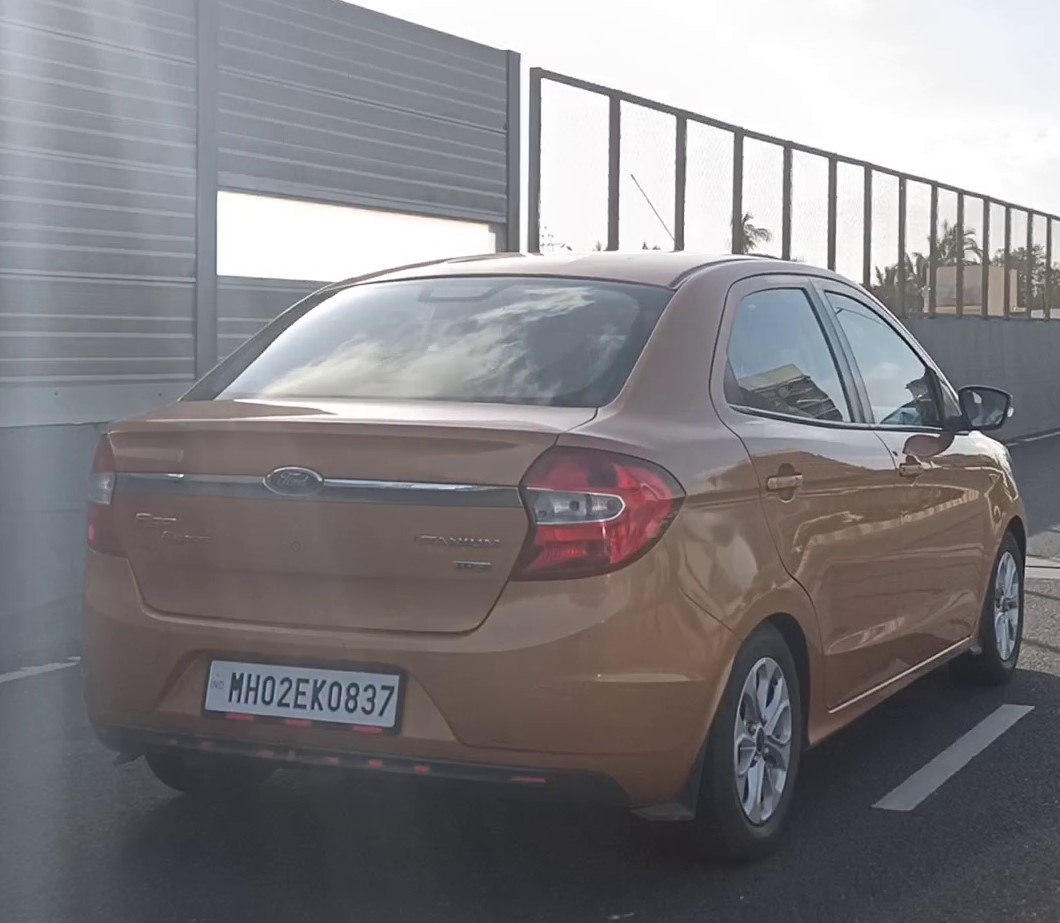MH02EK0837: (207, 652, 401, 728)
